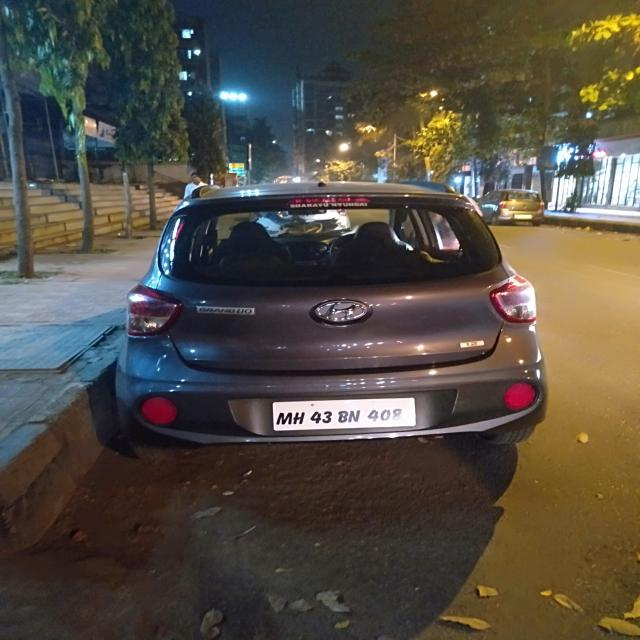Number-Plate: (276, 399, 413, 429)
